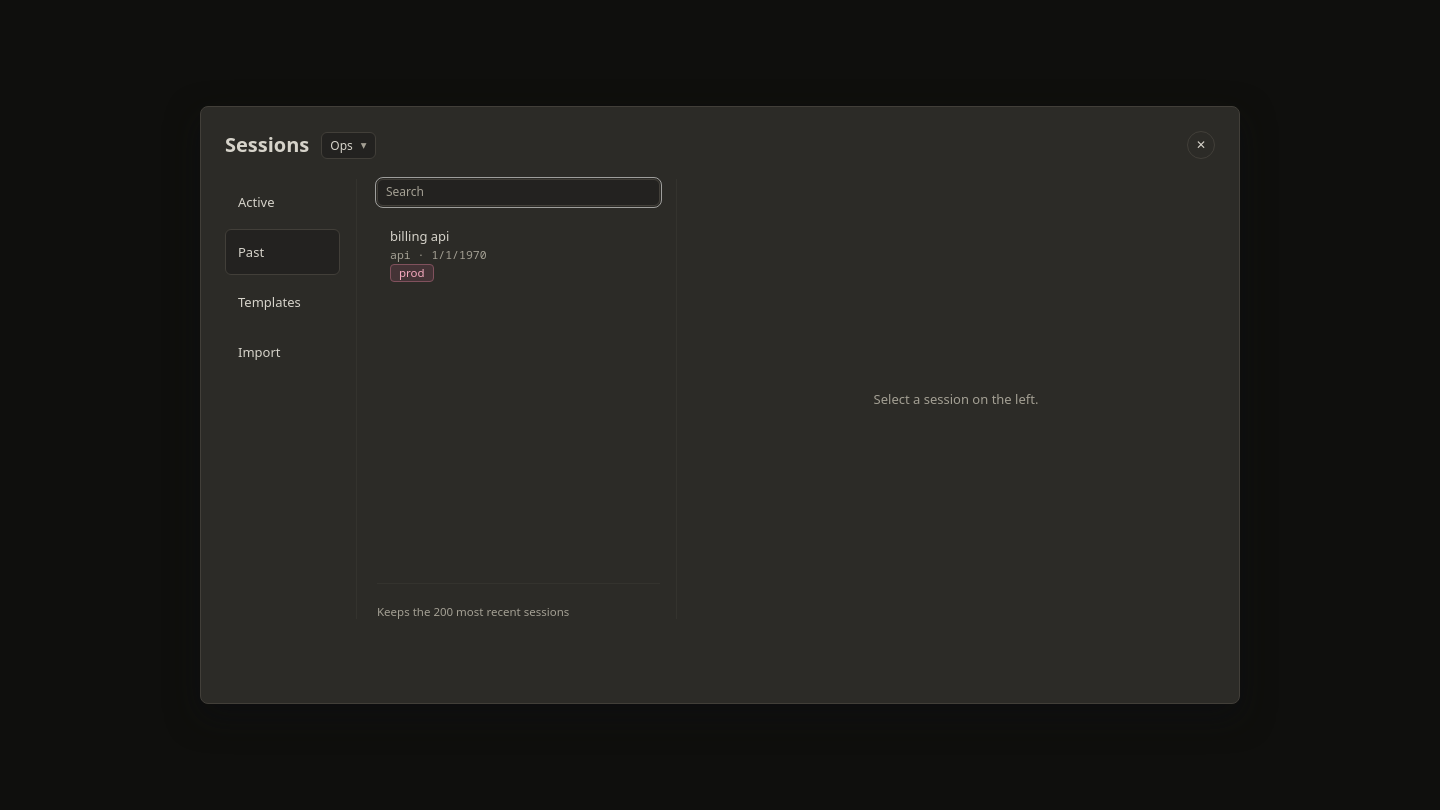
PastSessionsDialog › a record with no surviving tag says "No tags" instead of an empty field
Click the button "Ops ▾" at (348, 145), box [321, 132, 376, 158]
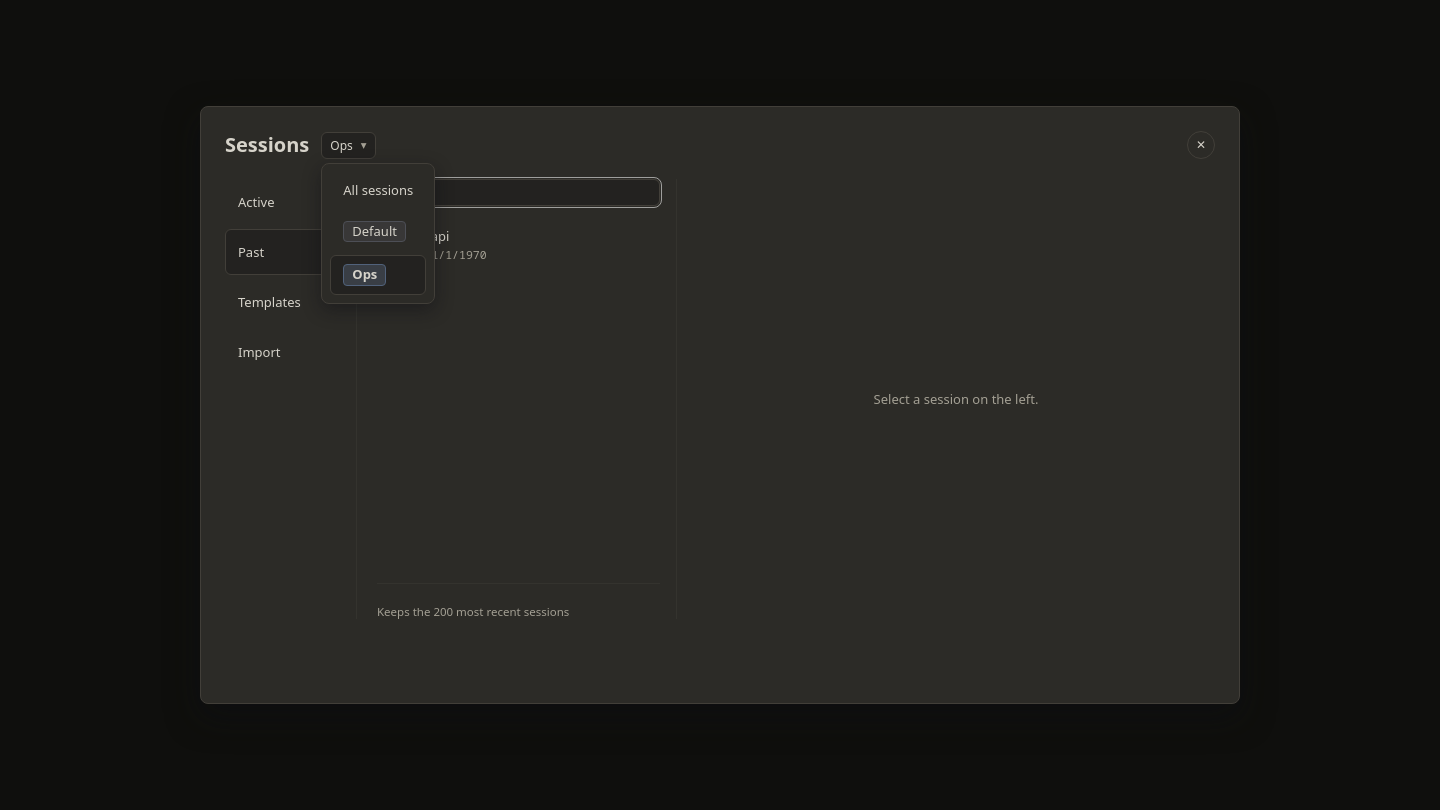
Click the option "All sessions" at (378, 190), box [330, 172, 426, 208]
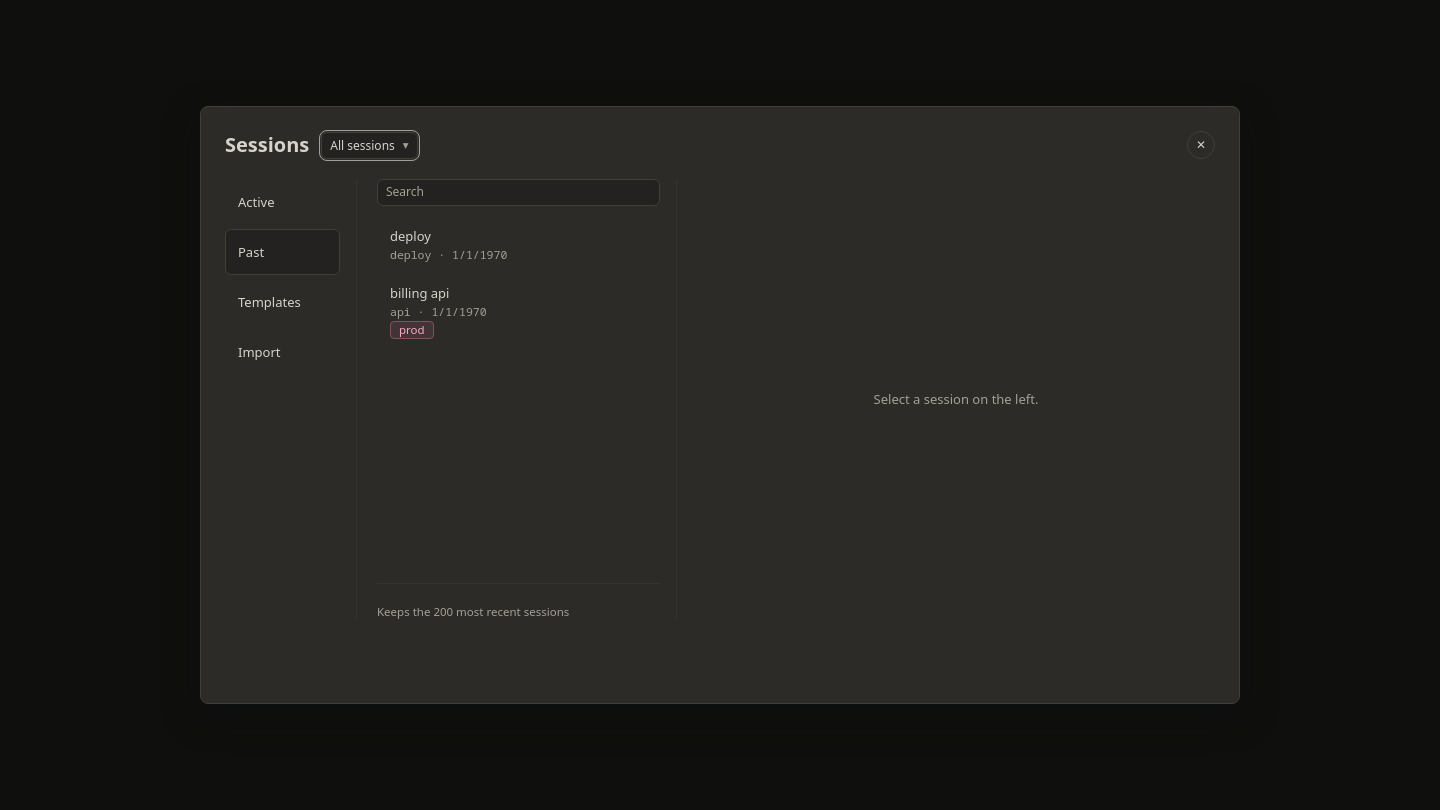
Click the button with test id "past-session-select-sb" at (410, 236), box [378, 219, 659, 270]
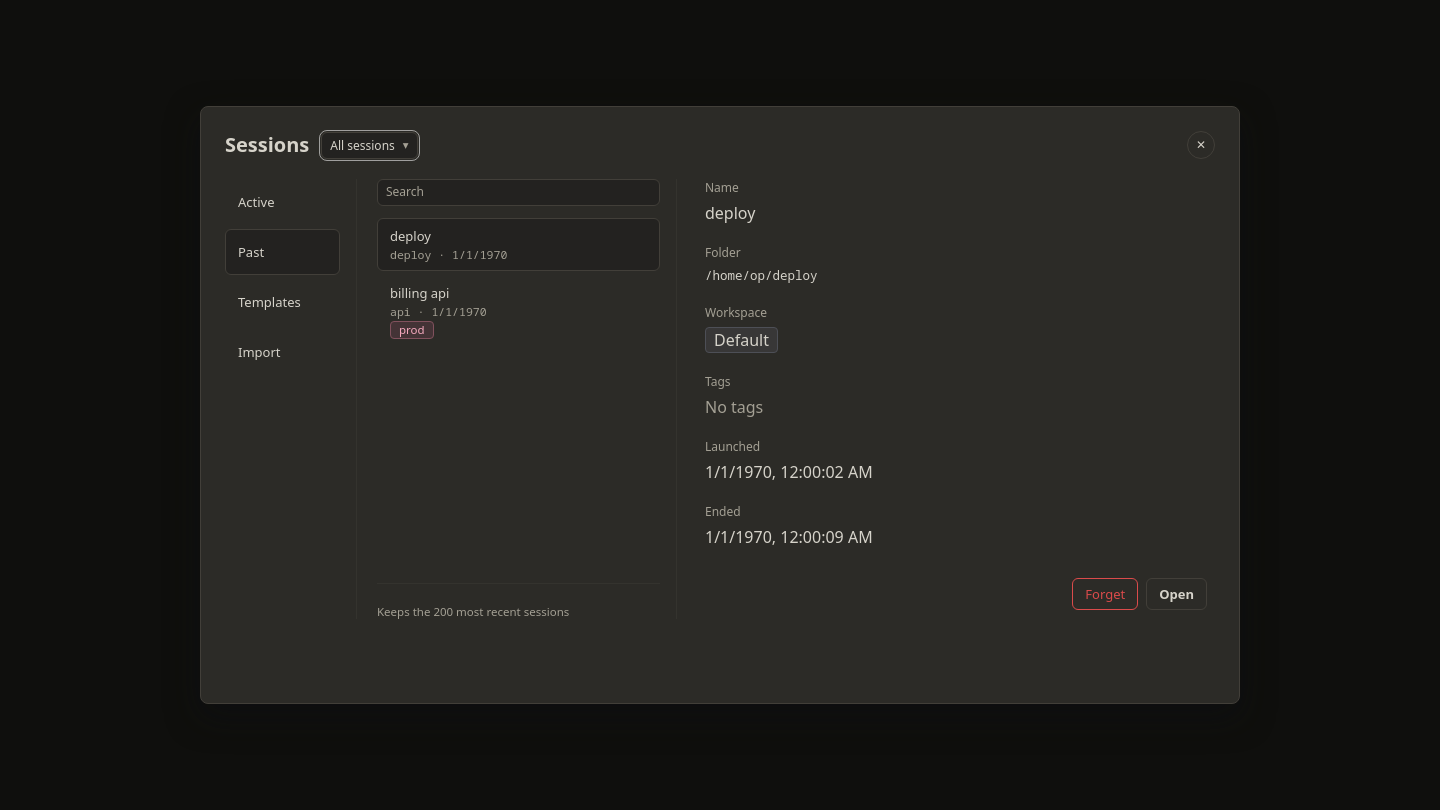
Now the text with test id "past-session-form-no-tags" reads "No tags", box [705, 396, 763, 418]
